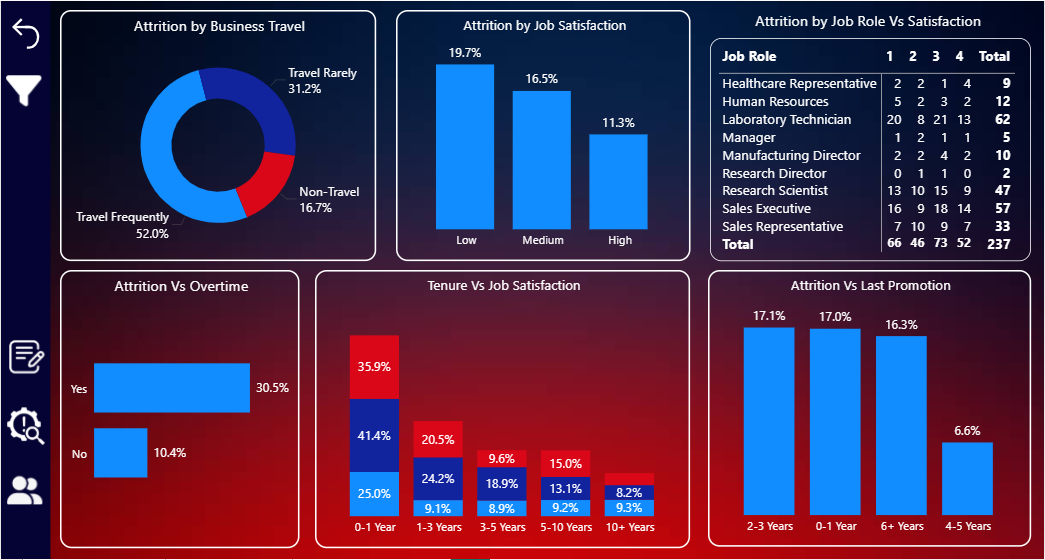

This screenshot's page, from the dashboard's own definition file:
{"tool":"powerbi","page":{"name":"Drivers Analysis","canvas":[1345,720],"ordinal":1},"visuals":[{"type":"barChart","title":"Attrition Vs Overtime","fields":{"Category":["HR Analytics.OverTime"],"Y":["Measure Table.Attrition Rate %"]},"box":[76.7,347.1,309.5,358.7],"z":0},{"type":"actionButton","box":[5.8,422.3,56.4,73.8],"z":0,"group":"g1"},{"type":"clusteredColumnChart","title":"Attrition by Job Satisfaction","fields":{"Category":["HR Analytics.Job Satisfaction Text"],"Y":["Measure Table.Attrition Rate %"]},"box":[509.1,11.6,380.4,324],"z":1000},{"type":"actionButton","box":[2.9,512,59.3,75.2],"z":1000,"group":"g1"},{"type":"donutChart","title":"Attrition by Business Travel","fields":{"Category":["HR Analytics.Business Travel"],"Y":["Measure Table.Attrition Rate %"]},"box":[76.7,11.6,407.8,324],"z":2000},{"type":"actionButton","box":[4.3,603.1,53.5,57.8],"z":2000,"group":"g1"},{"type":"columnChart","title":"Tenure Vs Job Satisfaction","fields":{"Category":["HR Analytics.Tenure Group"],"Series":["HR Analytics.Job Satisfaction Text"],"Y":["Measure Table.Attrition Rate %"]},"box":[404.9,347.1,484.5,358.7],"z":3000},{"type":"pivotTable","fields":{"Rows":["HR Analytics.Job Role"],"Columns":["HR Analytics.JobSatisfaction"],"Values":["Sum(HR Analytics.Attrition 0/1)"]},"box":[915.5,47.7,413.6,287.8],"z":4000},{"type":"textbox","box":[912.6,7.2,413.6,40.5],"z":5000},{"type":"columnChart","title":"Attrition Vs Last Promotion","fields":{"Category":["HR Analytics.Last Promotion Group"],"Y":["Measure Table.Attrition Rate %"]},"box":[912.6,347.1,416.5,357.2],"z":6000},{"type":"shape","box":[0,0,63.8,790],"z":7000},{"type":"actionButton","box":[6.2,14,51.3,56],"z":8000},{"type":"actionButton","box":[2.9,89.7,56.4,53.5],"z":9000},{"type":"group","id":"g1","title":"Side Buttons","box":[2.9,422.3,59.3,238.6],"z":11000}]}

Visuals, with their boxes in screenshot pixels (x1, y1, x2, y2):
"Attrition Vs Overtime" barChart: detection(67, 269, 304, 544)
actionButton: detection(13, 326, 56, 383)
"Attrition by Job Satisfaction" clusteredColumnChart: detection(398, 12, 690, 260)
actionButton: detection(10, 395, 56, 453)
"Attrition by Business Travel" donutChart: detection(67, 12, 379, 260)
actionButton: detection(11, 465, 52, 509)
"Tenure Vs Job Satisfaction" columnChart: detection(318, 269, 690, 544)
pivotTable - HR Analytics.Job Role x HR Analytics.JobSatisfaction: detection(710, 39, 1027, 260)
textbox: detection(707, 8, 1024, 39)
"Attrition Vs Last Promotion" columnChart: detection(707, 269, 1027, 542)
shape: detection(8, 3, 57, 559)
actionButton: detection(13, 13, 52, 56)
actionButton: detection(10, 71, 54, 112)
"Side Buttons" group: detection(10, 326, 56, 509)
